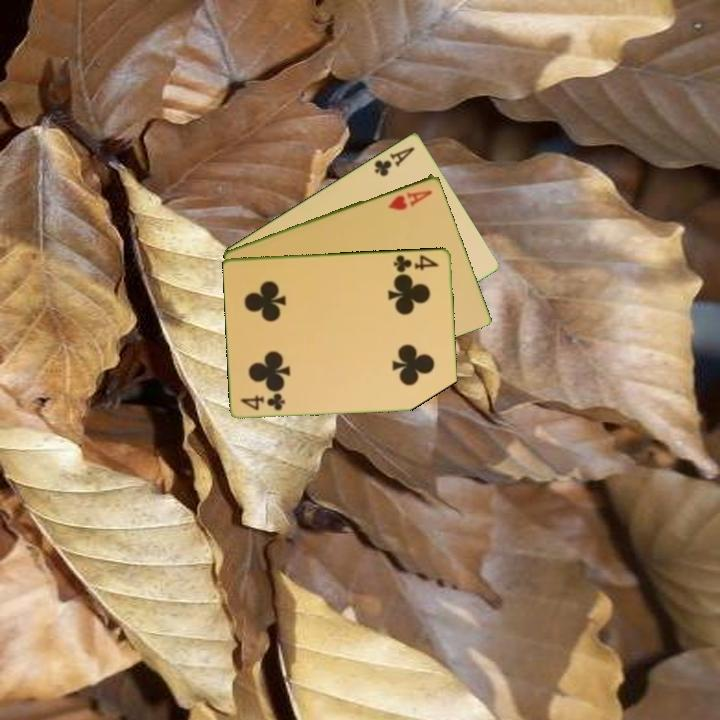4c: (390, 251, 441, 275), (237, 390, 288, 413)
Ac: (371, 143, 418, 179)
Ah: (385, 186, 435, 213)
